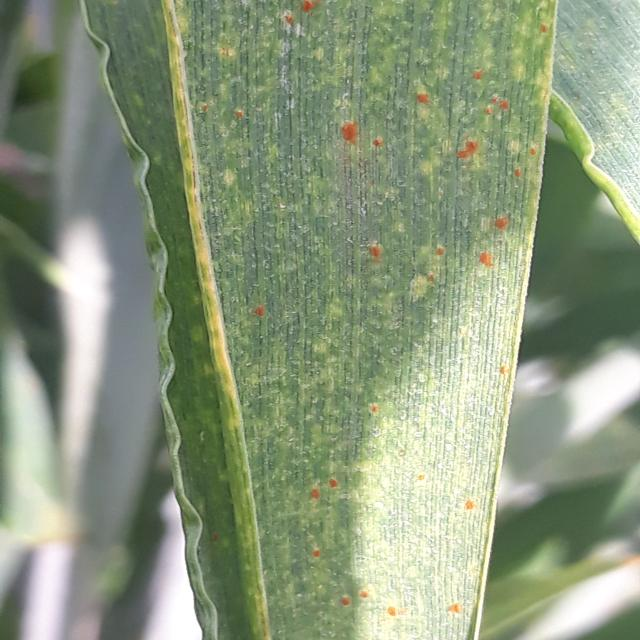orang_rust: (68, 0, 572, 640)
